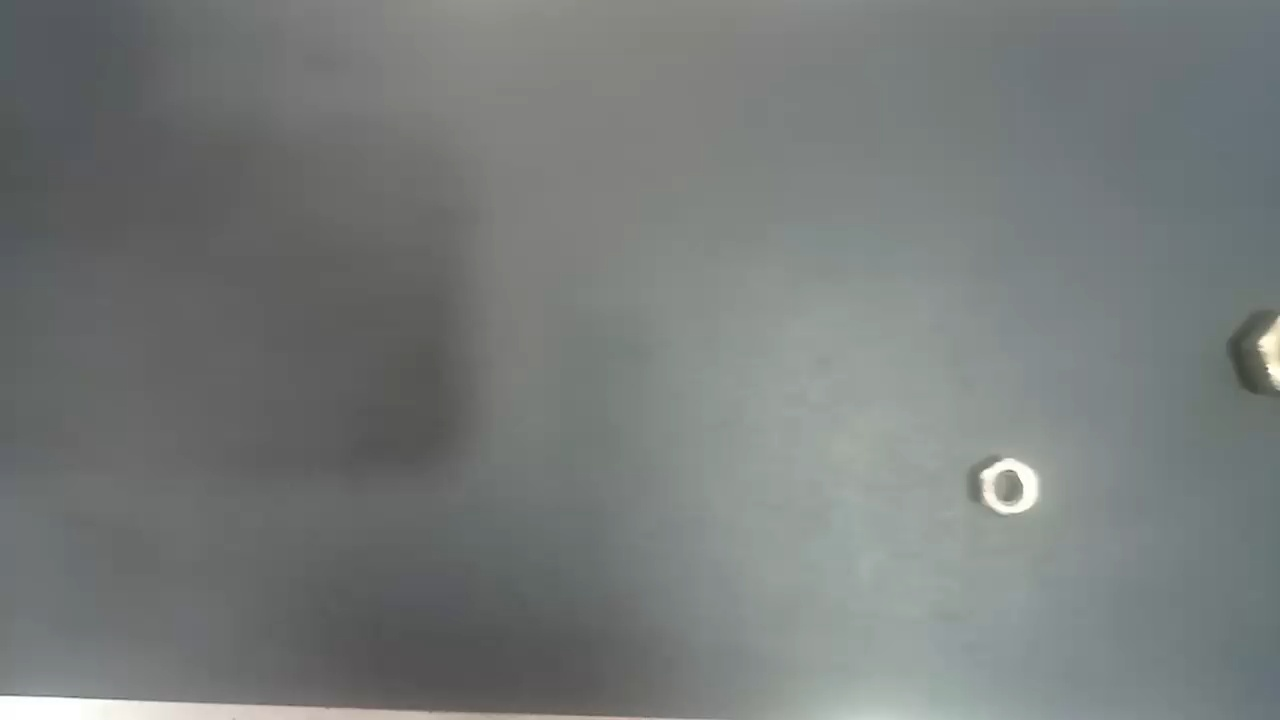Bolt: (976, 451, 1041, 519)
